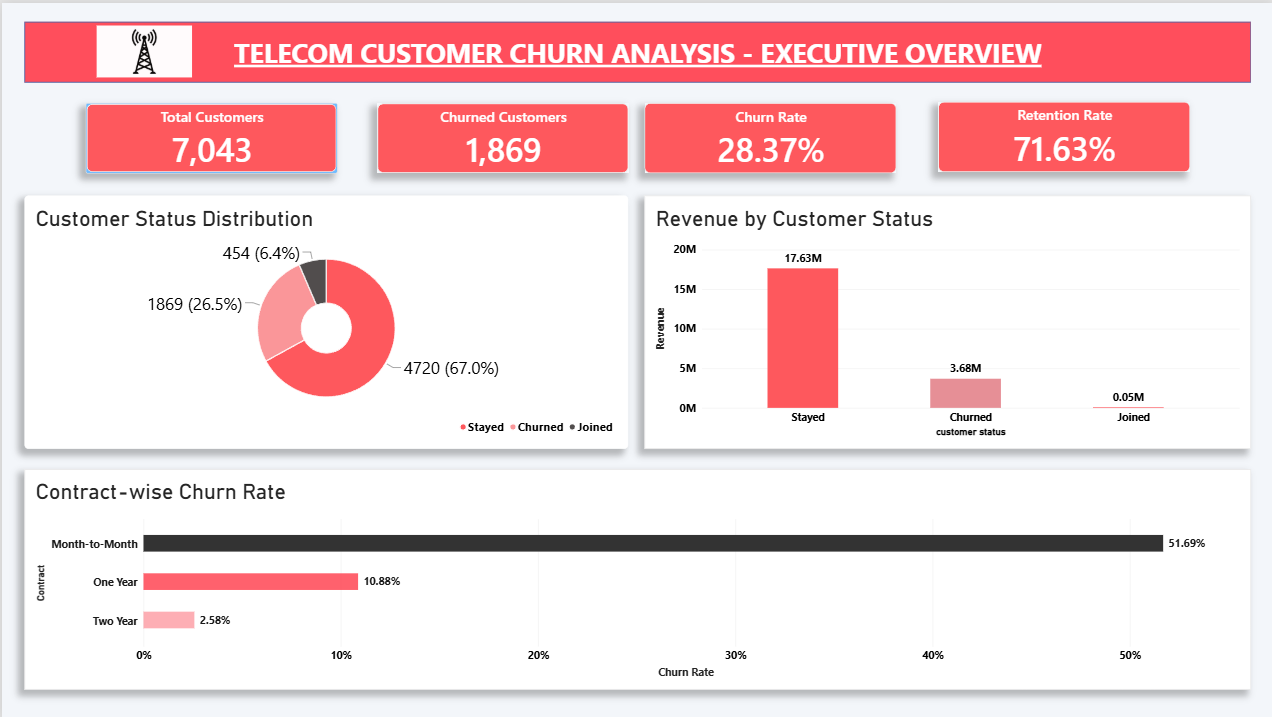

What the dashboard file says about the page in this screenshot:
{"tool":"powerbi","page":{"name":"Executive Overview","canvas":[1920,1080],"ordinal":0},"visuals":[{"type":"cardVisual","fields":{"Data":["public telecom_customers.Churned Customers Display"]},"box":[565.6,151,381,106.7],"z":1000},{"type":"cardVisual","fields":{"Data":["public telecom_customers.Total Customers Display"]},"box":[126.1,151,380,106.7],"z":2000},{"type":"cardVisual","fields":{"Data":["public telecom_customers.Churn Rate"]},"box":[970.7,151,380,106.7],"z":3000},{"type":"donutChart","title":"Customer Status Distribution","fields":{"Category":["public telecom_customers.customer_status"],"Y":["CountNonNull(public telecom_customers.customer_id)"]},"box":[34.4,290.4,911.5,382.2],"z":4000},{"type":"clusteredBarChart","title":"Contract-wise Churn Rate","fields":{"Category":["public telecom_customers.contract"],"Y":["public telecom_customers.Churn Rate"]},"box":[34.4,703.2,1851.6,332.5],"z":5000},{"type":"clusteredColumnChart","title":"Revenue by Customer Status","fields":{"Category":["public telecom_customers.customer_status"],"Y":["public telecom_customers.Total Revenue"]},"box":[970.7,290.4,915.3,382.2],"z":6000},{"type":"cardVisual","fields":{"Data":["public telecom_customers.Retention Rate"]},"box":[1414,149,380,106.7],"z":7000},{"type":"textbox","box":[1436,0,380,150],"z":8001},{"type":"shape","box":[34.4,28.7,1851.6,91.7],"z":8002},{"type":"image","box":[91.7,34.4,244.6,78.3],"z":8003}]}

Visuals, with their boxes in screenshot pixels (x1, y1, x2, y2), scaled from the page's 1920x1080 canvas onto the 1272x717 screenshot:
cardVisual - public telecom_customers.Churned Customers Display: [x1=375, y1=100, x2=627, y2=171]
cardVisual - public telecom_customers.Total Customers Display: [x1=84, y1=100, x2=335, y2=171]
cardVisual - public telecom_customers.Churn Rate: [x1=643, y1=100, x2=895, y2=171]
"Customer Status Distribution" donutChart: [x1=23, y1=193, x2=627, y2=447]
"Contract-wise Churn Rate" clusteredBarChart: [x1=23, y1=467, x2=1249, y2=688]
"Revenue by Customer Status" clusteredColumnChart: [x1=643, y1=193, x2=1249, y2=447]
cardVisual - public telecom_customers.Retention Rate: [x1=937, y1=99, x2=1189, y2=170]
textbox: [x1=951, y1=0, x2=1203, y2=100]
shape: [x1=23, y1=19, x2=1249, y2=80]
image: [x1=61, y1=23, x2=223, y2=75]
